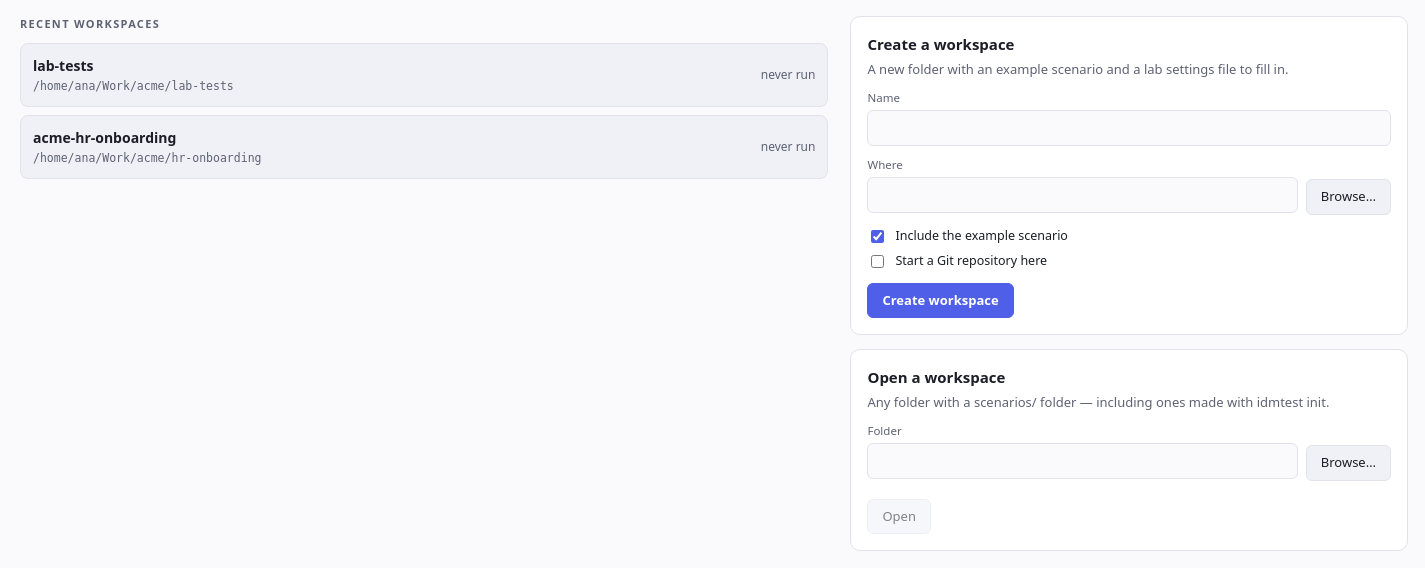
the run-going notice on the start page › stops the run with the running workspace's header
Click the button with aria-label "Open acme-hr-onboarding" at (105, 137), box x1=20 y1=115 x2=828 y2=179
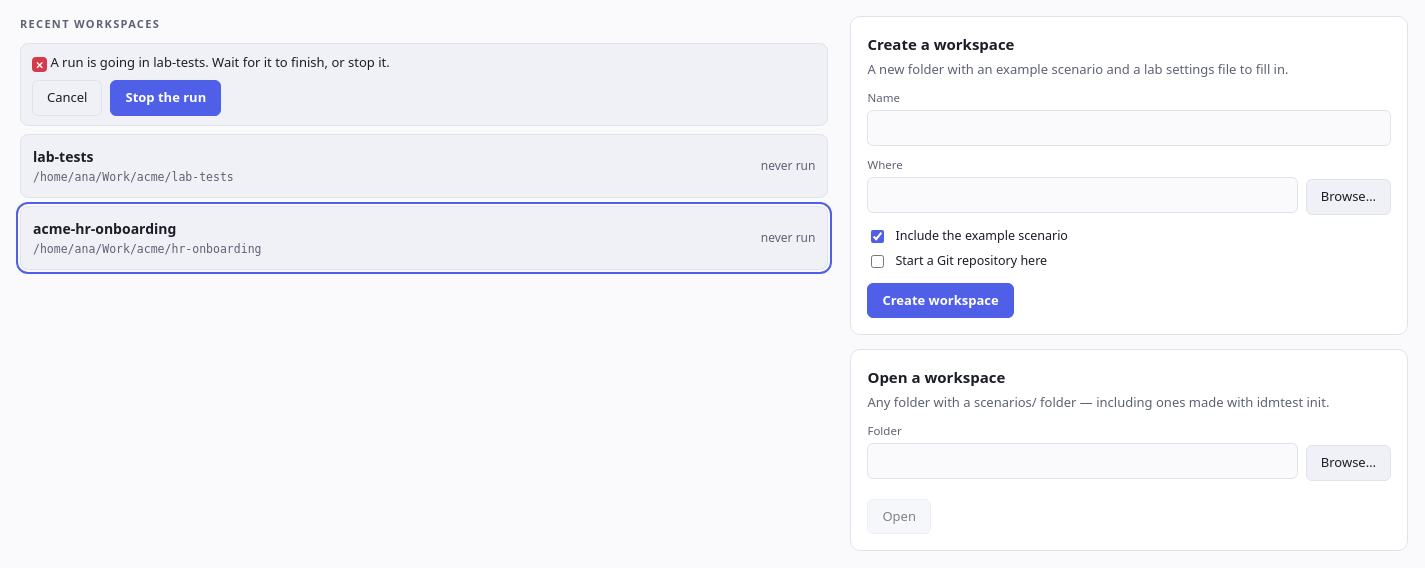
Click the button "Stop the run" at (166, 98), box x1=110 y1=80 x2=221 y2=116
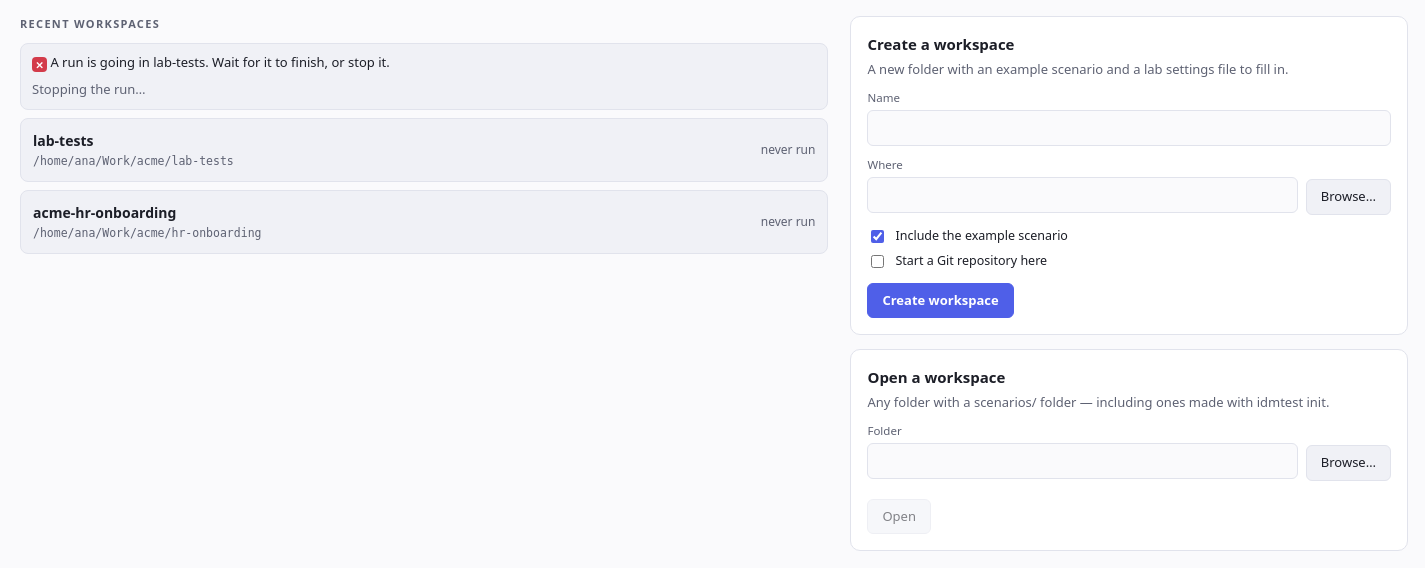
Expected: the text "Stopping the run…" is shown, x1=32 y1=80 x2=146 y2=98
Expected: the button "Stop the run" is gone
